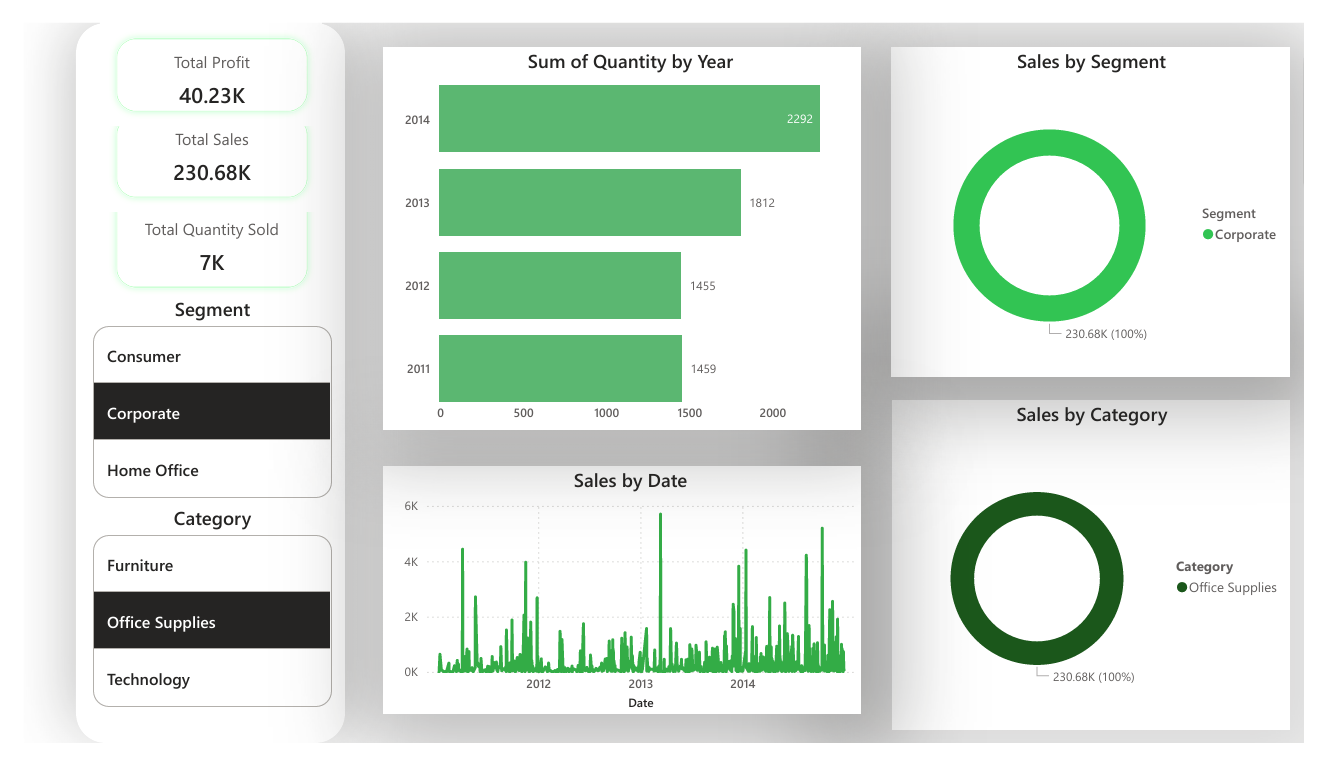

This screenshot's page, from the dashboard's own definition file:
{"tool":"powerbi","page":{"name":"Page 1","canvas":[1280,720],"ordinal":0},"visuals":[{"type":"shape","box":[62.4,16.8,250.5,675.1],"z":1000},{"type":"shape","box":[52.4,0,268.9,719.8],"z":1500},{"type":"cardVisual","fields":{"Data":["Sum(Superstore.Quantity)"]},"box":[77.5,150.8,221.4,128.7],"z":6000},{"type":"cardVisual","fields":{"Data":["Sum(Superstore.Sales)"]},"box":[77.5,77.5,221.4,112.1],"z":6500},{"type":"cardVisual","fields":{"Data":["Sum(Superstore.Profit)"]},"box":[77.5,0,221.4,103.8],"z":6750},{"type":"donutChart","fields":{"Category":["Superstore.Category"],"Y":["Sum(Superstore.Sales)"]},"box":[869,377.8,398,330.7],"z":7000},{"type":"donutChart","title":"Sales by Segment","fields":{"Category":["Superstore.Segment"],"Y":["Sum(Superstore.Sales)"]},"box":[868.2,24.6,398.4,330.3],"z":8000},{"type":"advancedSlicerVisual","fields":{"Values":["Superstore.Category"]},"box":[63.7,481.6,249.1,209],"z":8250},{"type":"advancedSlicerVisual","fields":{"Values":["Superstore.Segment"]},"box":[63.7,272.6,249.1,209],"z":8500},{"type":"lineChart","fields":{"Category":["Superstore.Order Date"],"Y":["Sum(Superstore.Sales)"]},"box":[360.5,444.1,477.6,247.7],"z":9000},{"type":"clusteredBarChart","fields":{"Y":["Sum(Superstore.Quantity)"],"Category":["Superstore.Order Date.Variation.Date Hierarchy.Year","Superstore.Order Date.Variation.Date Hierarchy.Quarter","Superstore.Order Date.Variation.Date Hierarchy.Month","Superstore.Order Date.Variation.Date Hierarchy.Day"]},"box":[360.5,24.6,477.6,383.9],"z":10000}]}

Visuals, with their boxes in screenshot pixels (x1, y1, x2, y2), scaled from the page's 1280x720 canvas onto the 1328x765 screenshot:
shape: bbox(65, 18, 325, 735)
shape: bbox(54, 0, 333, 764)
cardVisual - Sum(Superstore.Quantity): bbox(80, 160, 310, 297)
cardVisual - Sum(Superstore.Sales): bbox(80, 82, 310, 201)
cardVisual - Sum(Superstore.Profit): bbox(80, 0, 310, 110)
donutChart - Superstore.Category x Sum(Superstore.Sales): bbox(902, 401, 1315, 753)
"Sales by Segment" donutChart: bbox(901, 26, 1314, 377)
advancedSlicerVisual - Superstore.Category: bbox(66, 512, 325, 734)
advancedSlicerVisual - Superstore.Segment: bbox(66, 290, 325, 512)
lineChart - Superstore.Order Date x Sum(Superstore.Sales): bbox(374, 472, 870, 735)
clusteredBarChart - Sum(Superstore.Quantity) x Superstore.Order Date.Variation.Date Hierarchy.Year: bbox(374, 26, 870, 434)
